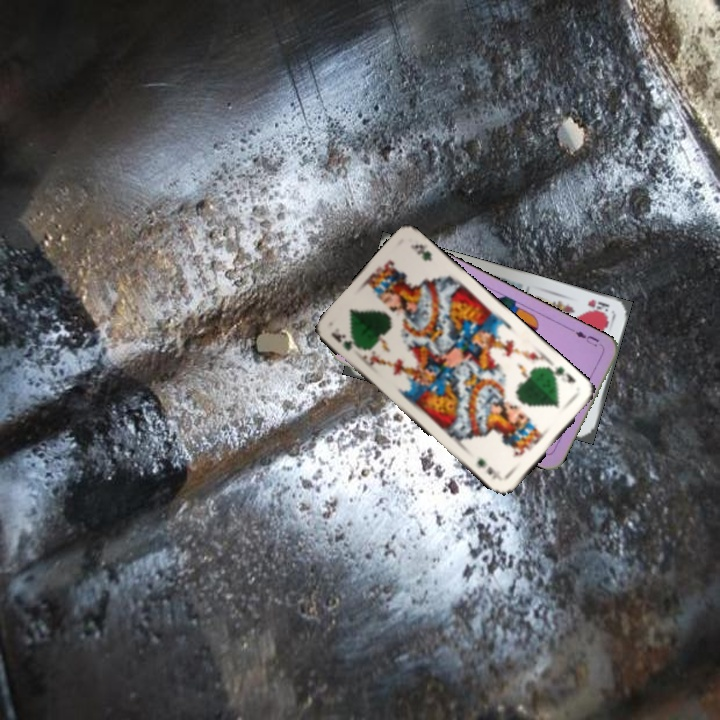EU: (571, 327, 605, 349)
GK: (327, 328, 364, 353), (546, 362, 578, 386)
HK: (584, 295, 612, 319)
